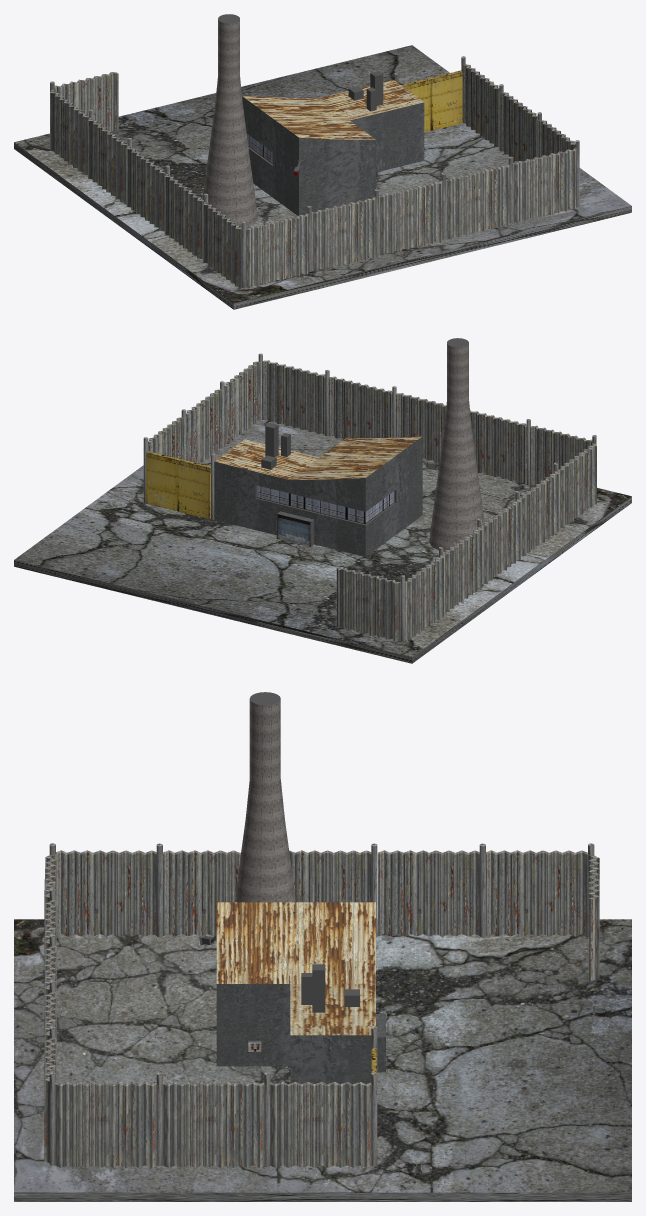
Rendered from Level.fbx.
The picture shows the model from 3 angles, top to bottom: view 1: azimuth 30°, elevation 25°; view 2: azimuth 150°, elevation 25°; view 3: azimuth 270°, elevation 25°; orthographic projection. The views are drawn at different scales.
Parts seen in each view (by area): view 1: pCube31, pasted__pCube1, pCylinder1, pCube24, pCube22, pCube25, pCube21, pCube23, pCube28, pCube29, pCube27, pCube26 (+7 smaller); view 2: pCube31, pasted__pCube1, pCylinder1, pCube6, pCube21, pCube22, pCube24, pCube29, pCube28, pCube26, pCube27, pCube23 (+7 smaller); view 3: pCube31, pasted__pCube1, pCube19, pCube20, pCube29, pCube30, pCube15, pCube26, pCylinder1, pCube27, pCube28, pCube6 (+1 smaller).
Part boxes in pixels (x1,y1,x2,y2): pCube31: [14, 45, 631, 309]; pasted__pCube1: [242, 71, 424, 215]; pCylinder1: [202, 14, 257, 227]; pCube24: [311, 197, 376, 271]; pCube22: [446, 164, 510, 238]; pCube25: [245, 213, 308, 287]; pCube21: [513, 148, 576, 222]; pCube23: [379, 180, 442, 255]; pCube28: [126, 146, 165, 231]; pCube29: [88, 118, 127, 202]; pCube27: [164, 174, 203, 259]; pCube26: [203, 202, 241, 287]; pCube31: [14, 419, 631, 663]; pasted__pCube1: [214, 423, 422, 556]; pCylinder1: [429, 338, 484, 551]; pCube6: [336, 566, 400, 641]; pCube21: [262, 360, 325, 435]; pCube22: [328, 376, 392, 439]; pCube24: [470, 410, 526, 484]; pCube29: [443, 527, 482, 612]; pCube28: [482, 499, 520, 584]; pCube26: [558, 443, 596, 528]; pCube27: [520, 471, 558, 556]; pCube23: [395, 393, 446, 462]; pCube31: [14, 919, 631, 1201]; pasted__pCube1: [216, 902, 385, 1083]; pCube19: [162, 1081, 265, 1167]; pCube20: [54, 1081, 157, 1167]; pCube29: [377, 850, 479, 936]; pCube30: [486, 850, 588, 936]; pCube15: [270, 1082, 371, 1167]; pCube26: [56, 850, 156, 936]; pCylinder1: [234, 692, 295, 902]; pCube27: [162, 850, 240, 936]; pCube28: [289, 850, 371, 902]; pCube6: [588, 855, 599, 980].
Bounding box in the file's own units: 62.37 × 30.68 × 59.63.
